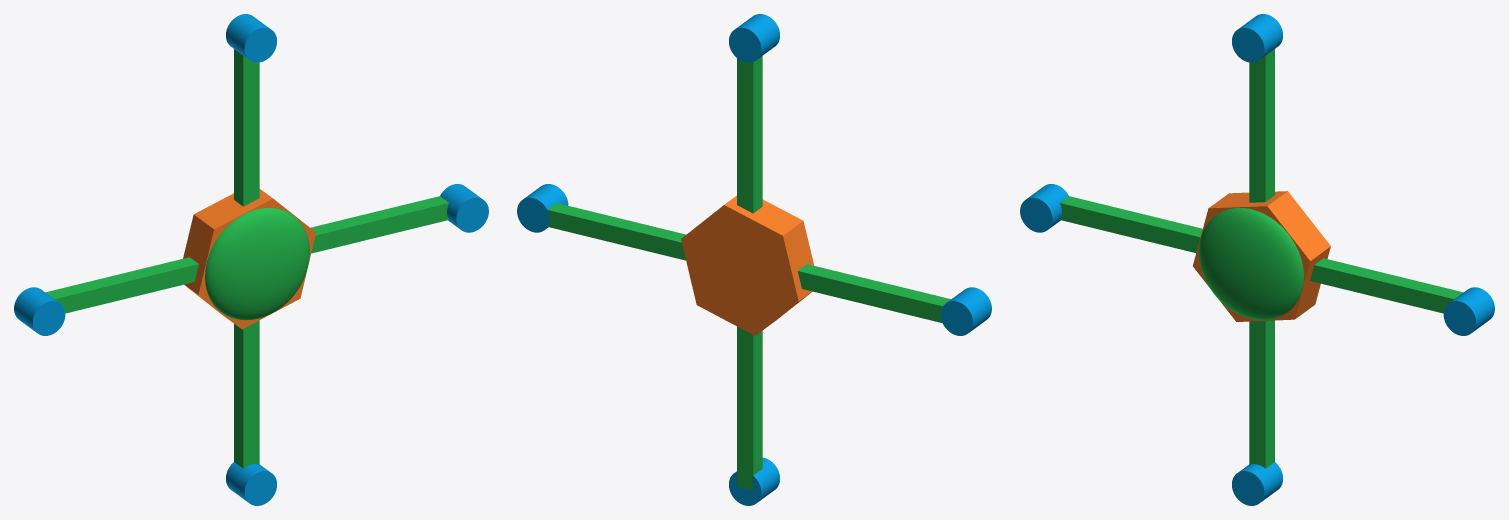
Rendered from Neue Szene.obj.
3 views of the same model, side by side, from view 1: azimuth 30°, elevation 25°; view 2: azimuth 150°, elevation 25°; view 3: azimuth 330°, elevation 25° (orthographic).
Parts seen in each view (by area): view 1: Object.6, Object.4, Object.3, Object.1, Object.5, Object.2, Object.7, Object.9, Object.8, Object.10; view 2: Object.1, Object.5, Object.4, Object.3, Object.2, Object.7, Object.9, Object.10, Object.8; view 3: Object.6, Object.1, Object.5, Object.4, Object.3, Object.2, Object.10, Object.9, Object.8, Object.7.
Part boxes in pixels (x1,y1,x2,y2): Object.6: [205, 208, 309, 320]; Object.4: [234, 49, 259, 206]; Object.3: [45, 257, 198, 313]; Object.1: [183, 189, 315, 329]; Object.5: [234, 320, 259, 468]; Object.2: [310, 196, 448, 253]; Object.7: [14, 287, 65, 335]; Object.9: [226, 14, 276, 62]; Object.8: [226, 462, 276, 505]; Object.10: [440, 184, 488, 232]; Object.1: [681, 195, 814, 335]; Object.5: [737, 326, 762, 490]; Object.4: [737, 56, 762, 213]; Object.3: [797, 264, 950, 322]; Object.2: [547, 203, 685, 260]; Object.7: [940, 287, 991, 335]; Object.9: [729, 14, 779, 62]; Object.10: [517, 184, 568, 232]; Object.8: [729, 457, 779, 505]; Object.6: [1199, 208, 1303, 320]; Object.1: [1193, 191, 1330, 321]; Object.5: [1249, 320, 1274, 468]; Object.4: [1249, 49, 1274, 202]; Object.3: [1060, 196, 1202, 252]; Object.2: [1310, 258, 1463, 313]; Object.10: [1443, 287, 1494, 335]; Object.9: [1232, 14, 1282, 62]; Object.8: [1232, 462, 1282, 505]; Object.7: [1020, 184, 1068, 232].
Size of the model in its own units: 561 by 561 by 62.46.
